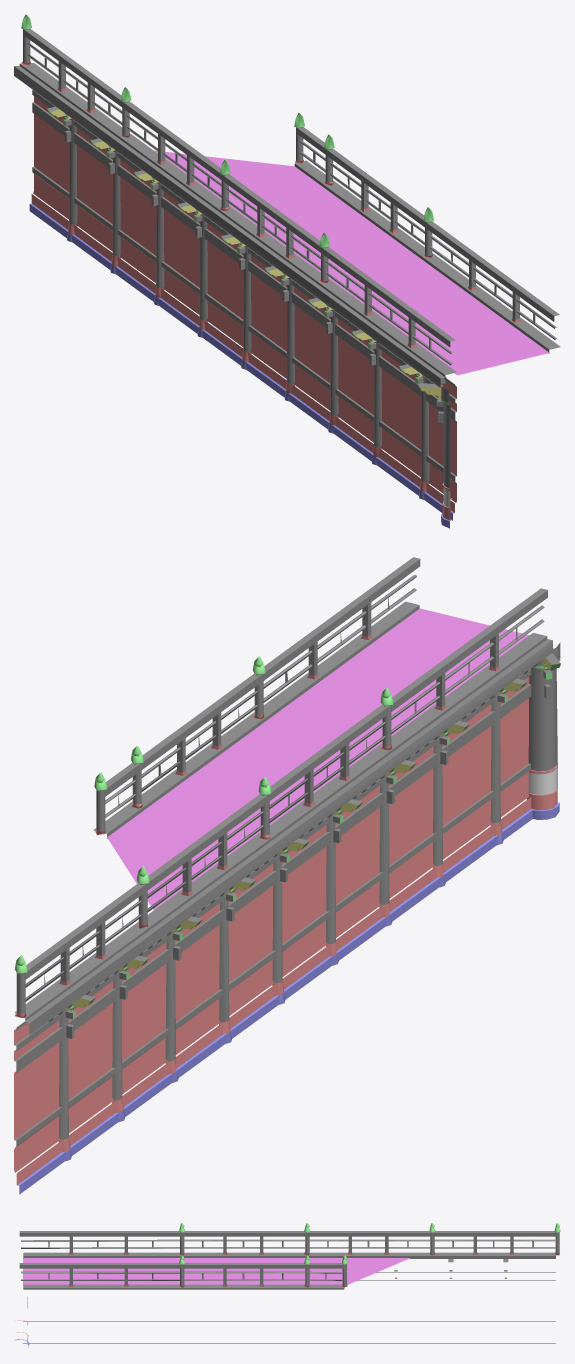
The model's file is SM_ENV_LKNVLD_WallSet_Connector_Lod2.gltf.
3 renders of one model, top to bottom at view 1: azimuth 30°, elevation 25°; view 2: azimuth 150°, elevation 25°; view 3: azimuth 270°, elevation 25°, orthographic. The views are drawn at different scales.
Parts seen in each view (by area): view 1: SM_ENV_LKNVLD_WallSet_Connector_Lod2; view 2: SM_ENV_LKNVLD_WallSet_Connector_Lod2; view 3: SM_ENV_LKNVLD_WallSet_Connector_Lod2.
Boxes of the visible parts, <box> form: SM_ENV_LKNVLD_WallSet_Connector_Lod2: <box>14,14,560,528</box>; SM_ENV_LKNVLD_WallSet_Connector_Lod2: <box>14,557,560,1194</box>; SM_ENV_LKNVLD_WallSet_Connector_Lod2: <box>14,1223,560,1347</box>.
Bounding box in the file's own units: 5.82 × 8.12 × 32.56.
